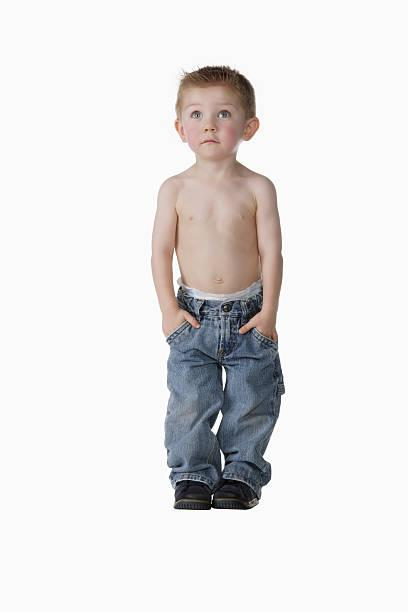Healthy: (157, 37, 271, 168)
